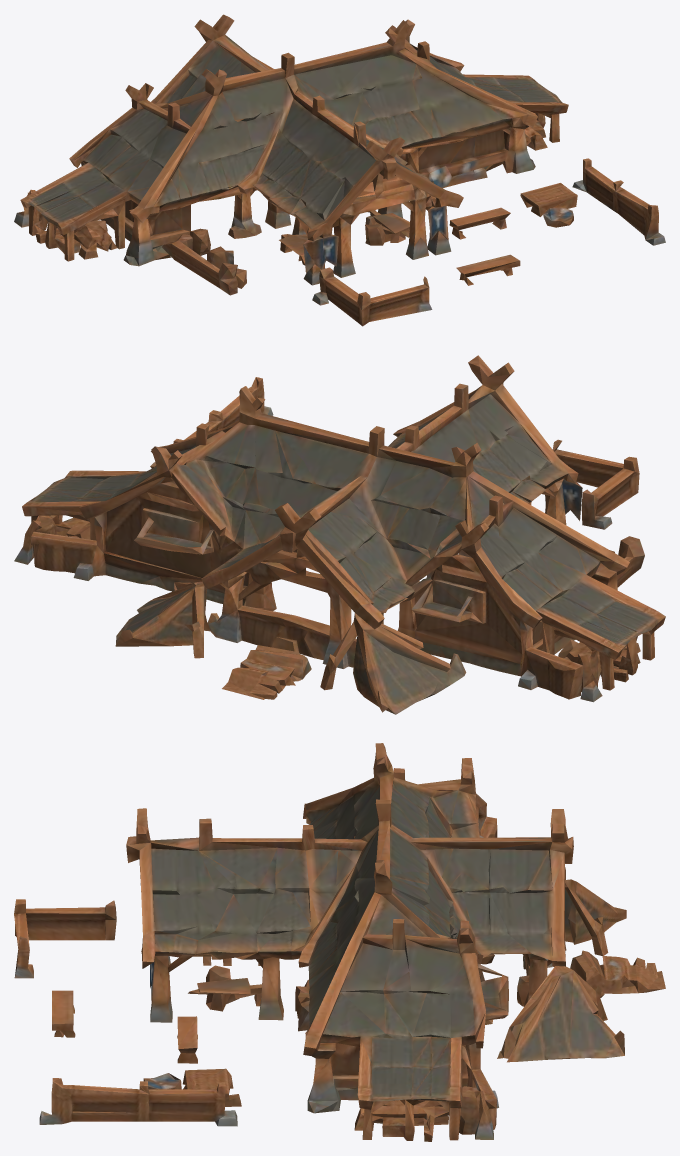
File: clan-hall.glb
3 renders of one model, top to bottom at view 1: azimuth 30°, elevation 25°; view 2: azimuth 150°, elevation 25°; view 3: azimuth 270°, elevation 25°, orthographic. The views are drawn at different scales.
Visible parts, largest first — view 1: output_unwrapped; view 2: output_unwrapped; view 3: output_unwrapped.
Part boxes in pixels (left/top/right/bottom): output_unwrapped: left=14, top=14, right=665, bottom=326; output_unwrapped: left=14, top=355, right=665, bottom=714; output_unwrapped: left=14, top=743, right=665, bottom=1141.
Size of the model in its own units: 13.99 by 4 by 12.52.
1 material, 1 textured.
